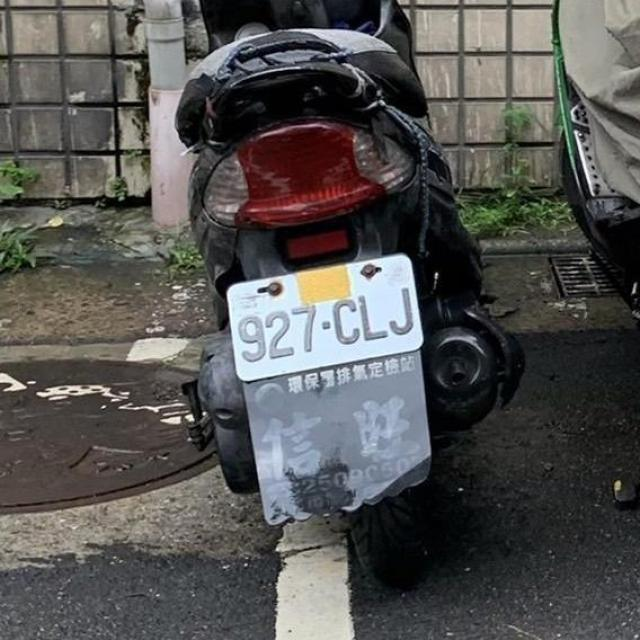W: (213, 252, 432, 386)
